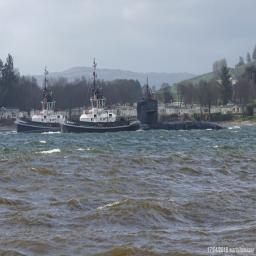submarine: (137, 80, 224, 130)
